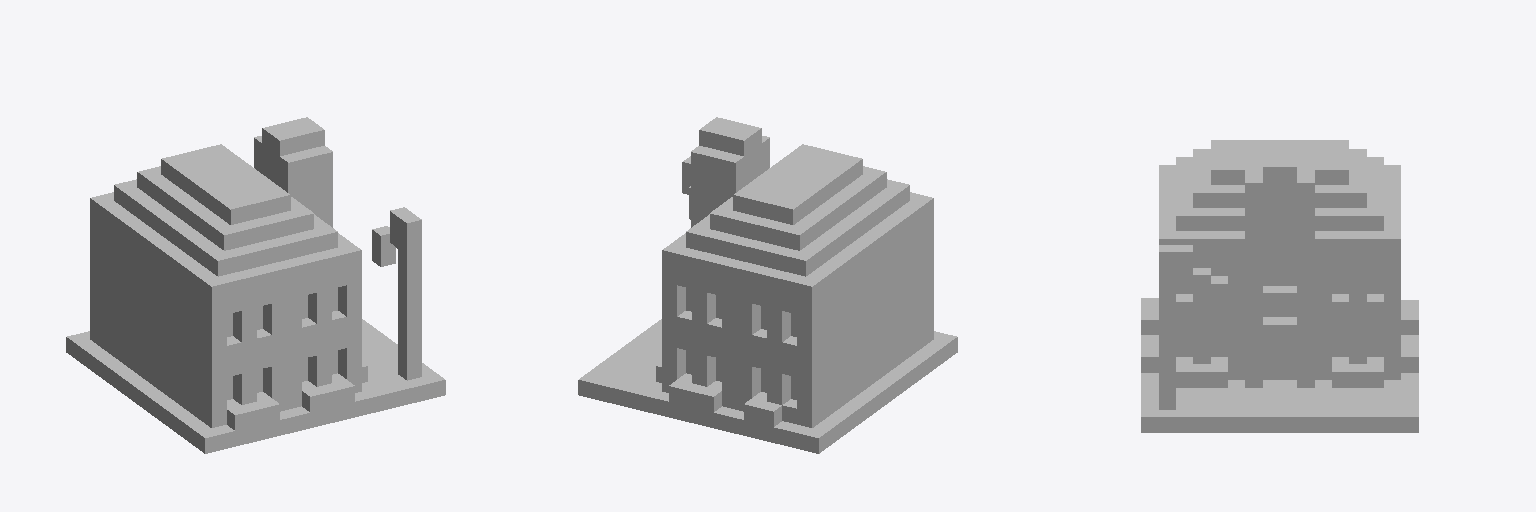
The model's file is School.obj.
3 renders of one model, left to right at view 1: azimuth 30°, elevation 25°; view 2: azimuth 150°, elevation 25°; view 3: azimuth 270°, elevation 25°, orthographic.
Bounding box in the file's own units: 16 × 15 × 16.